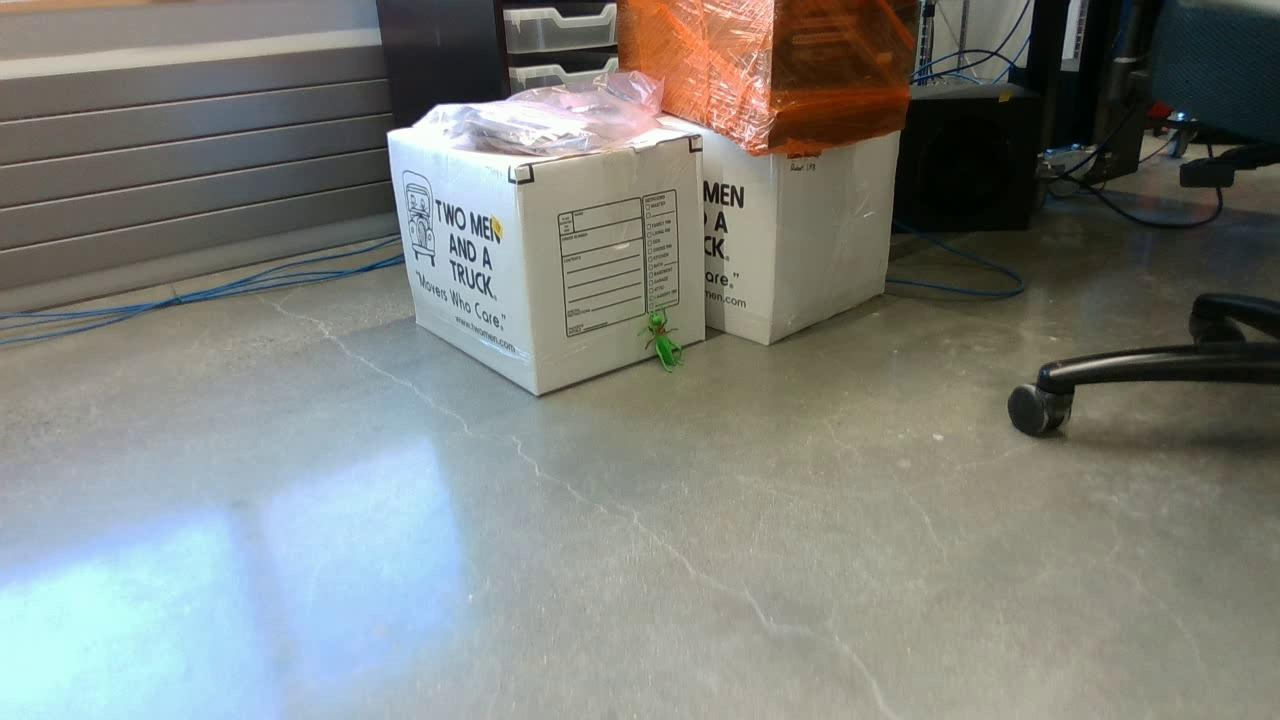grasshopper: (641, 307, 683, 373)
